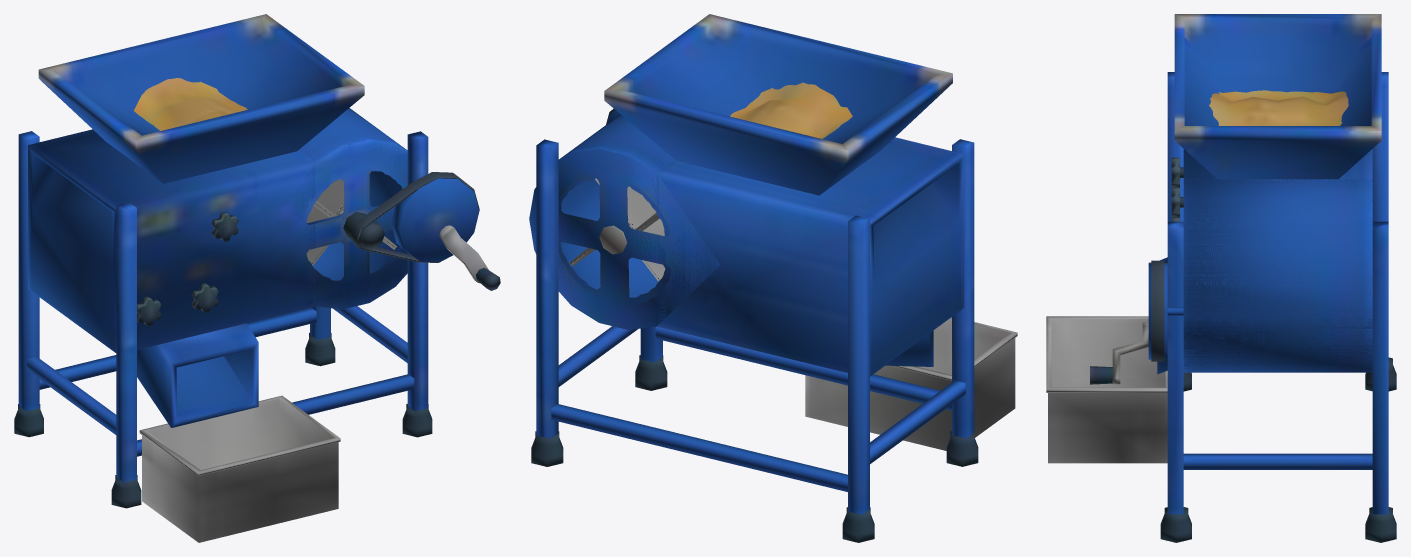
3 views of the same model, side by side, from view 1: azimuth 30°, elevation 25°; view 2: azimuth 150°, elevation 25°; view 3: azimuth 270°, elevation 25° (orthographic). The views are drawn at different scales.
Size of the model in its own units: 9.96 by 9.56 by 8.06.
Materials: 1 (1 with a texture image).
